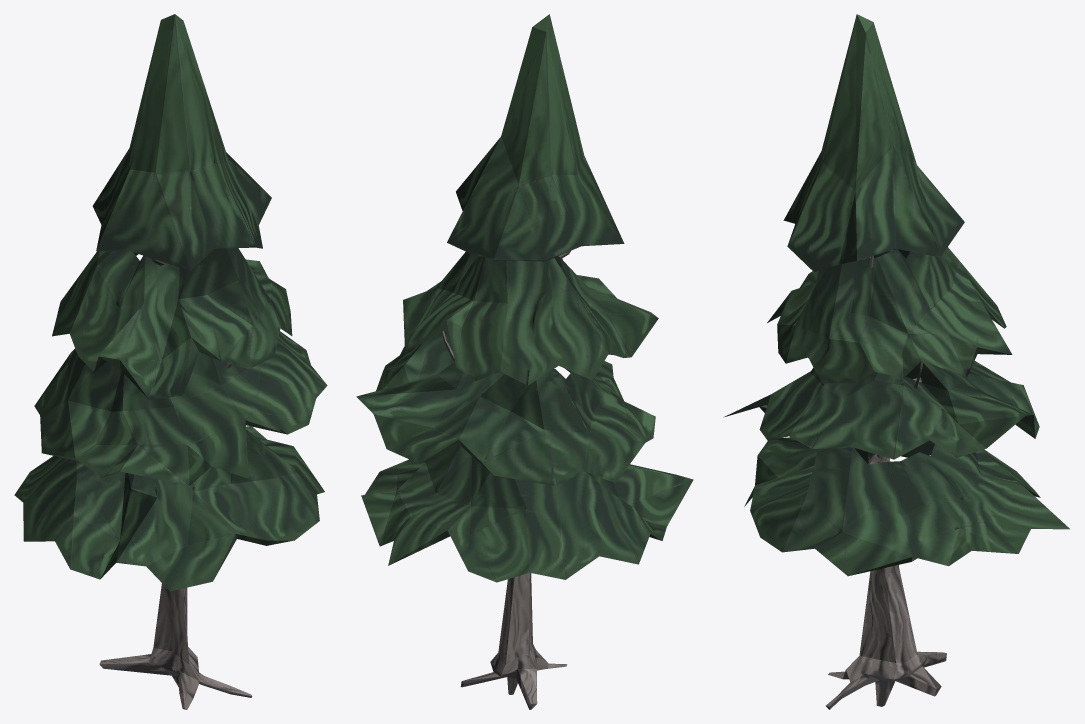
File: Spruce_Tree_-_Low_Poly.glb
The picture shows the model from 3 angles, left to right: view 1: azimuth 30°, elevation 25°; view 2: azimuth 150°, elevation 25°; view 3: azimuth 270°, elevation 25°; orthographic projection. The views are drawn at different scales.
Visible parts, largest first — view 1: tree_tree-spruce_0; view 2: tree_tree-spruce_0; view 3: tree_tree-spruce_0.
Boxes of the visible parts, <box> form: tree_tree-spruce_0: <box>14,14,327,709</box>; tree_tree-spruce_0: <box>356,14,693,709</box>; tree_tree-spruce_0: <box>723,14,1069,709</box>.
Size of the model in its own units: 402 by 989 by 460.
Materials: 1 (1 with a texture image).
